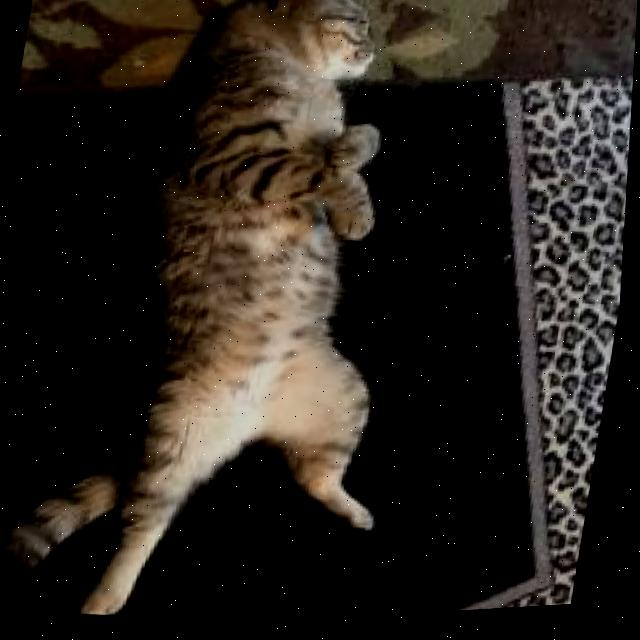Scottish Fold: (0, 0, 473, 639)
